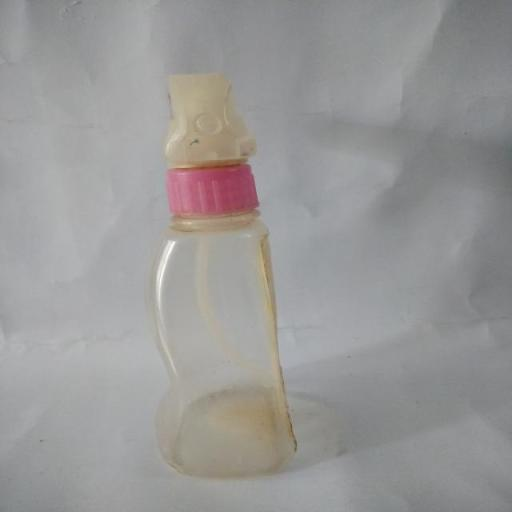plastic: (128, 68, 314, 487)
